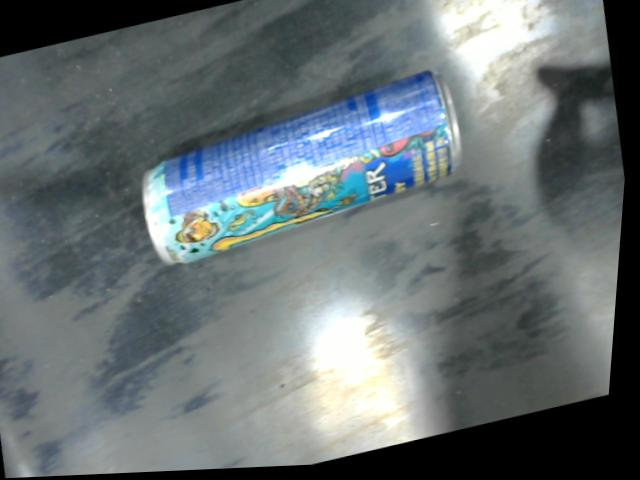can: (142, 69, 470, 269)
